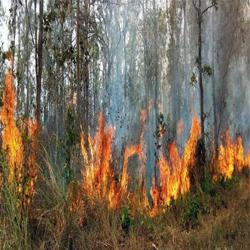fire: (2, 97, 33, 174), (84, 137, 118, 197), (161, 151, 189, 203), (216, 142, 248, 174)
